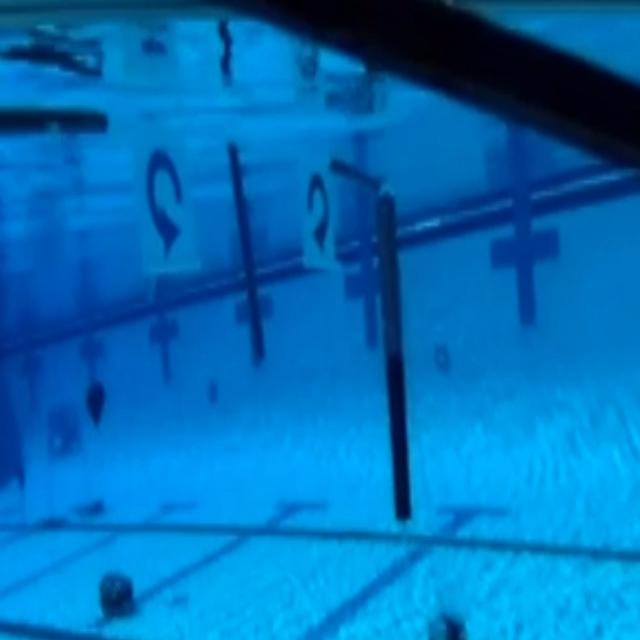Gate: (0, 83, 423, 550)
